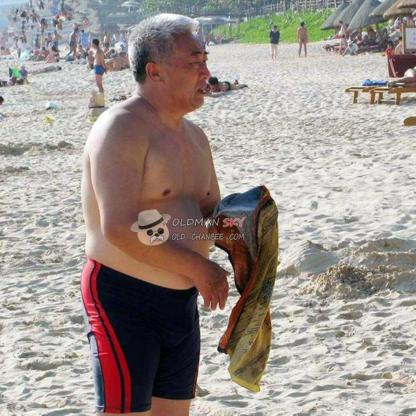face: (161, 34, 211, 109), (211, 85, 217, 91), (93, 43, 95, 49), (339, 23, 342, 27), (275, 29, 278, 32)
